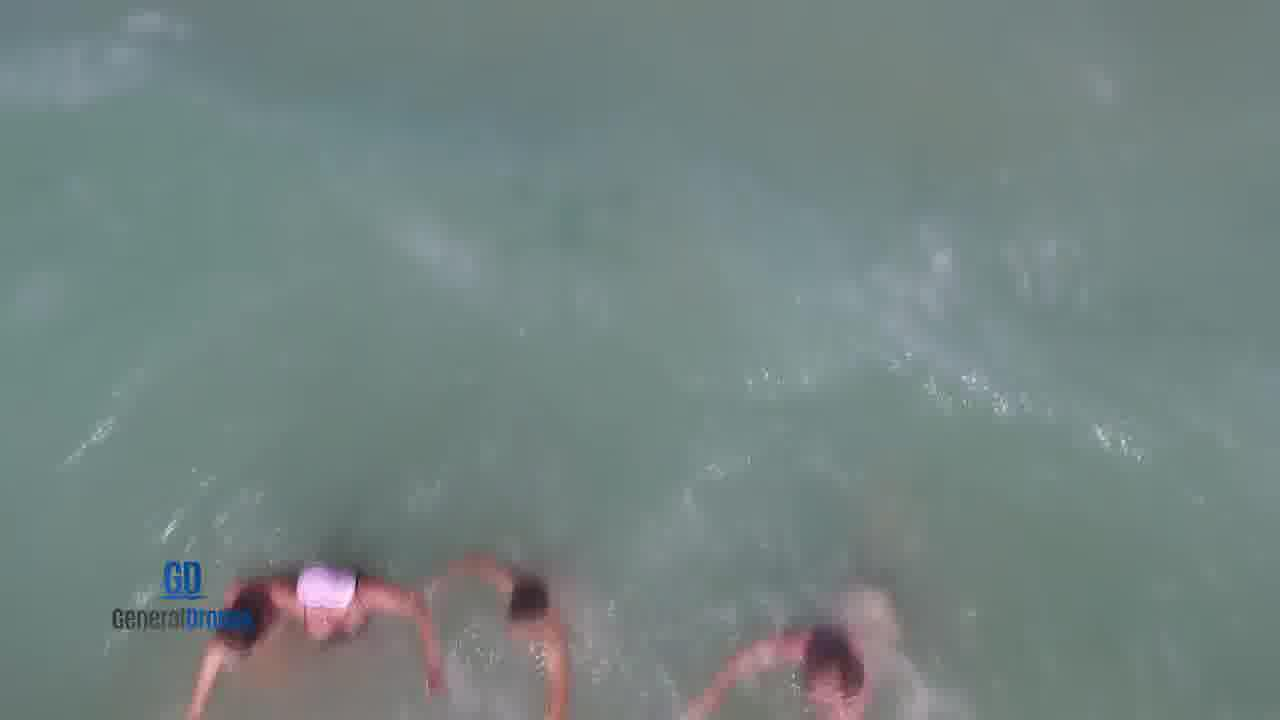swimmer: (673, 565, 904, 713), (261, 548, 446, 707), (418, 554, 581, 720), (177, 577, 269, 715)
